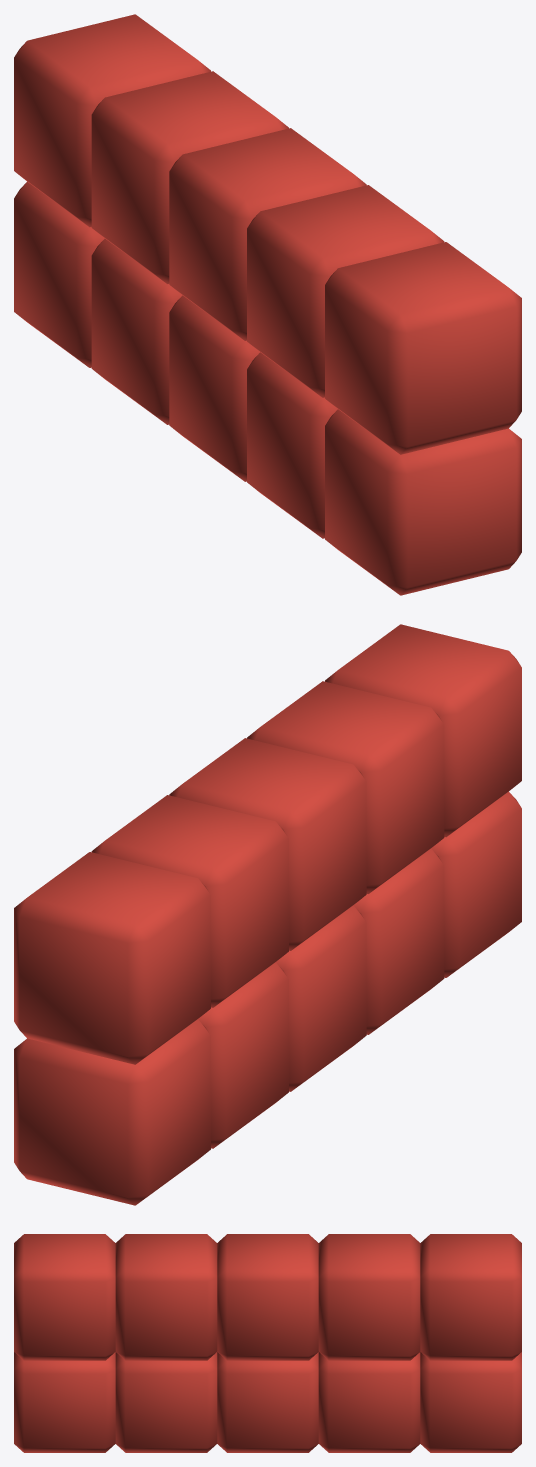
File: obstacle-001.fbx
The picture shows the model from 3 angles, top to bottom: view 1: azimuth 30°, elevation 25°; view 2: azimuth 150°, elevation 25°; view 3: azimuth 270°, elevation 25°; orthographic projection. The views are drawn at different scales.
Visible parts, largest first — view 1: Obstacle; view 2: Obstacle; view 3: Obstacle.
Part boxes in pixels (left/top/right/bottom): Obstacle: left=14, top=14, right=521, bottom=595; Obstacle: left=14, top=624, right=521, bottom=1205; Obstacle: left=14, top=1234, right=521, bottom=1452.
Size of the model in its own units: 200 by 400 by 1000.
